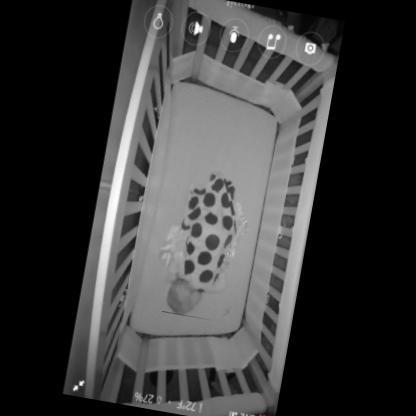baby: (161, 174, 244, 314)
